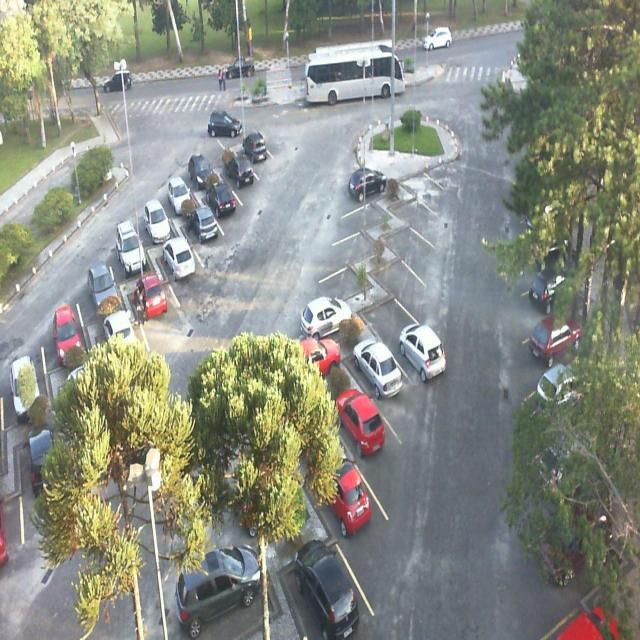empty: (357, 278, 417, 347), (374, 236, 429, 297), (317, 240, 371, 291), (319, 210, 375, 256), (384, 202, 434, 253), (395, 176, 443, 221), (342, 182, 392, 222), (405, 155, 451, 197), (200, 115, 237, 166)
occupied: (188, 524, 282, 632), (289, 507, 363, 629), (315, 449, 391, 559), (333, 380, 399, 480), (350, 326, 412, 407), (42, 278, 88, 363), (75, 235, 124, 313), (291, 284, 353, 345), (131, 258, 177, 332), (108, 206, 152, 278), (161, 222, 201, 288), (181, 190, 223, 252), (137, 186, 179, 244), (207, 168, 246, 219), (162, 158, 198, 212), (222, 138, 260, 188), (183, 138, 219, 188), (345, 154, 393, 191), (241, 120, 273, 169)
